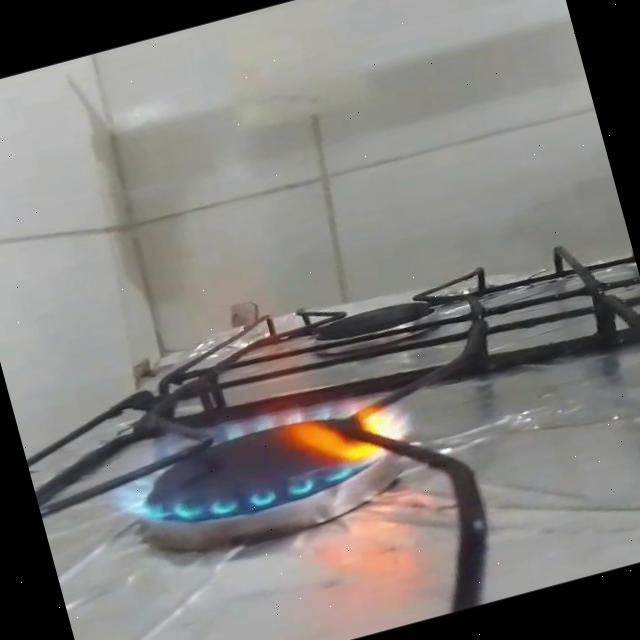fire: (64, 275, 432, 553)
